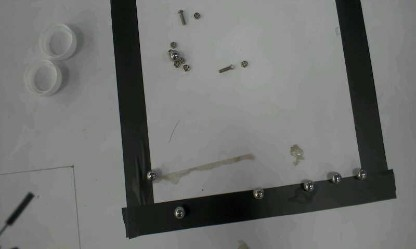ironball: (173, 206, 184, 219), (303, 180, 315, 191), (330, 173, 341, 184), (252, 188, 263, 199), (356, 168, 366, 180), (145, 170, 156, 180), (170, 52, 178, 59)
